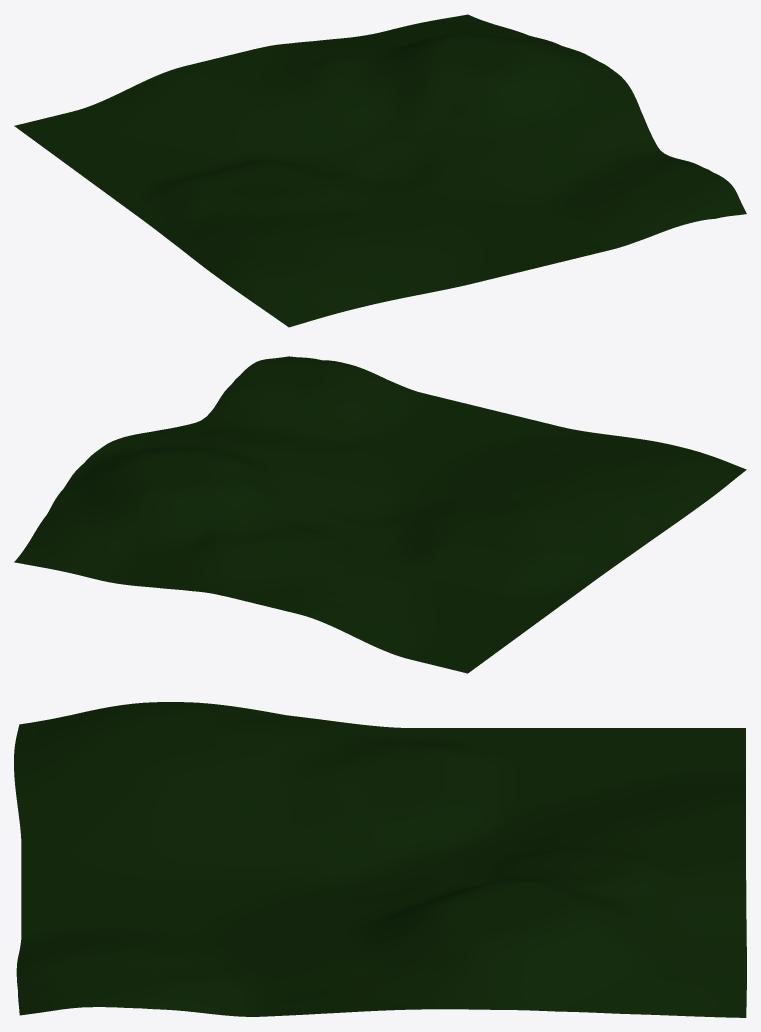
Rendered from montana.glb.
3 views of the same model, one above another, from view 1: azimuth 30°, elevation 25°; view 2: azimuth 150°, elevation 25°; view 3: azimuth 270°, elevation 25° (orthographic). The views are drawn at different scales.
Parts seen in each view (by area): view 1: montañas; view 2: montañas; view 3: montañas.
Boxes of the visible parts, box(x1,y1,x2,y2) form: montañas: box(14, 14, 746, 327); montañas: box(14, 356, 746, 673); montañas: box(14, 702, 746, 1017).
Size of the model in its own units: 5086 by 448 by 4930.
